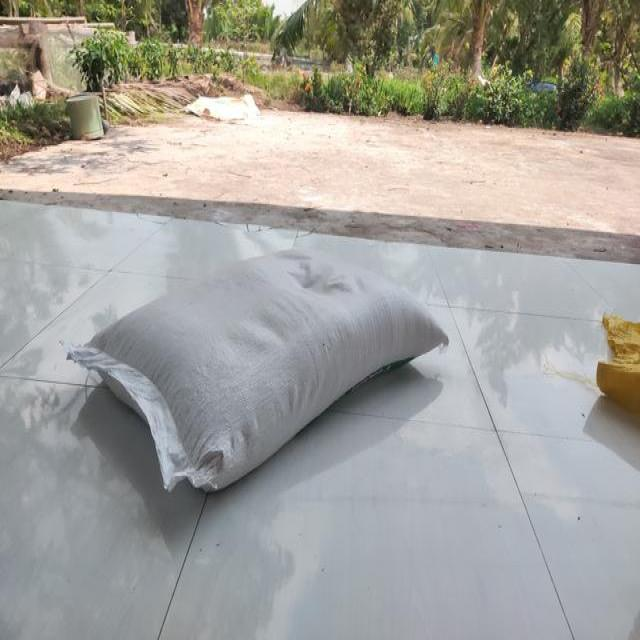gunny_bag: (69, 243, 451, 487)
